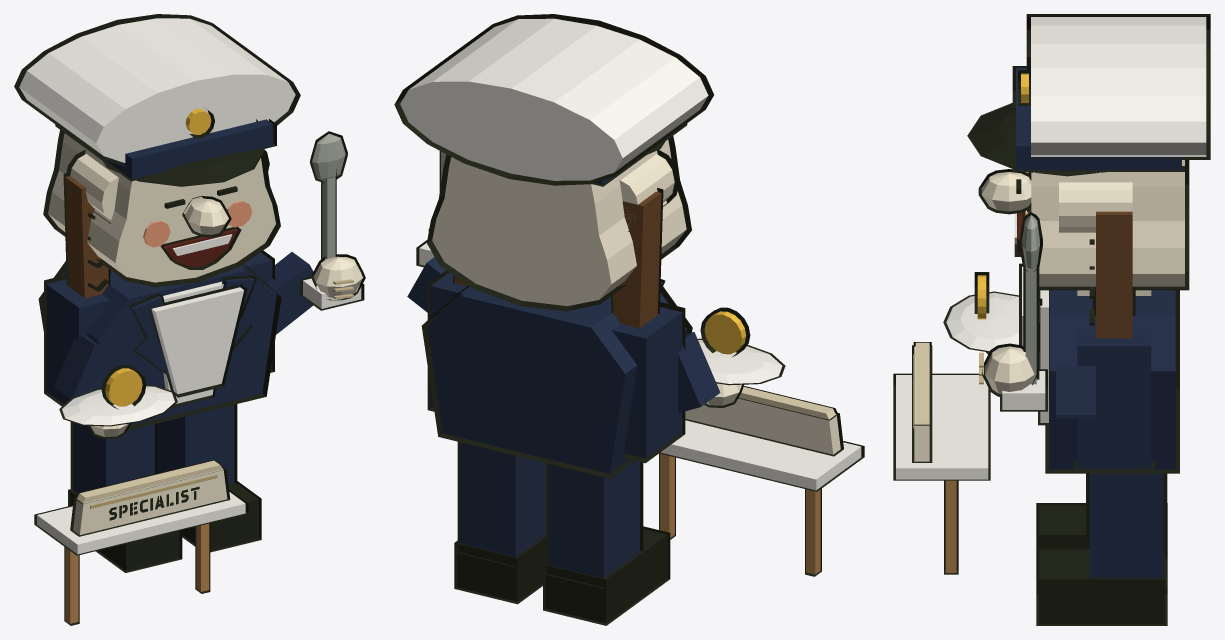
The picture shows the model from 3 angles, left to right: view 1: azimuth 30°, elevation 25°; view 2: azimuth 150°, elevation 25°; view 3: azimuth 270°, elevation 25°; orthographic projection. The views are drawn at different scales.
Visible parts, largest first — view 1: Link Marine; view 2: Link Marine; view 3: Link Marine.
Boxes of the visible parts, <box> form: Link Marine: <box>14,14,365,625</box>; Link Marine: <box>394,14,864,625</box>; Link Marine: <box>893,14,1210,625</box>.
Bounding box in the file's own units: 0.722 × 0.9836 × 0.5155.
